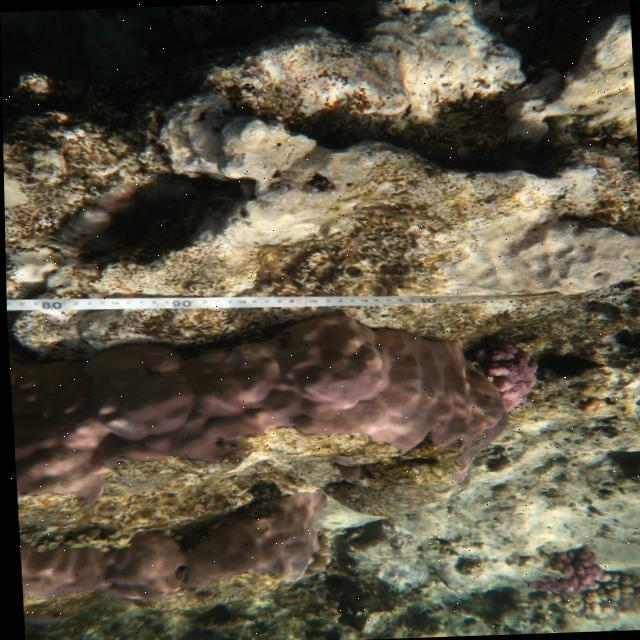Healthy Coral: (1, 319, 454, 502), (467, 337, 535, 417), (524, 548, 603, 601)
